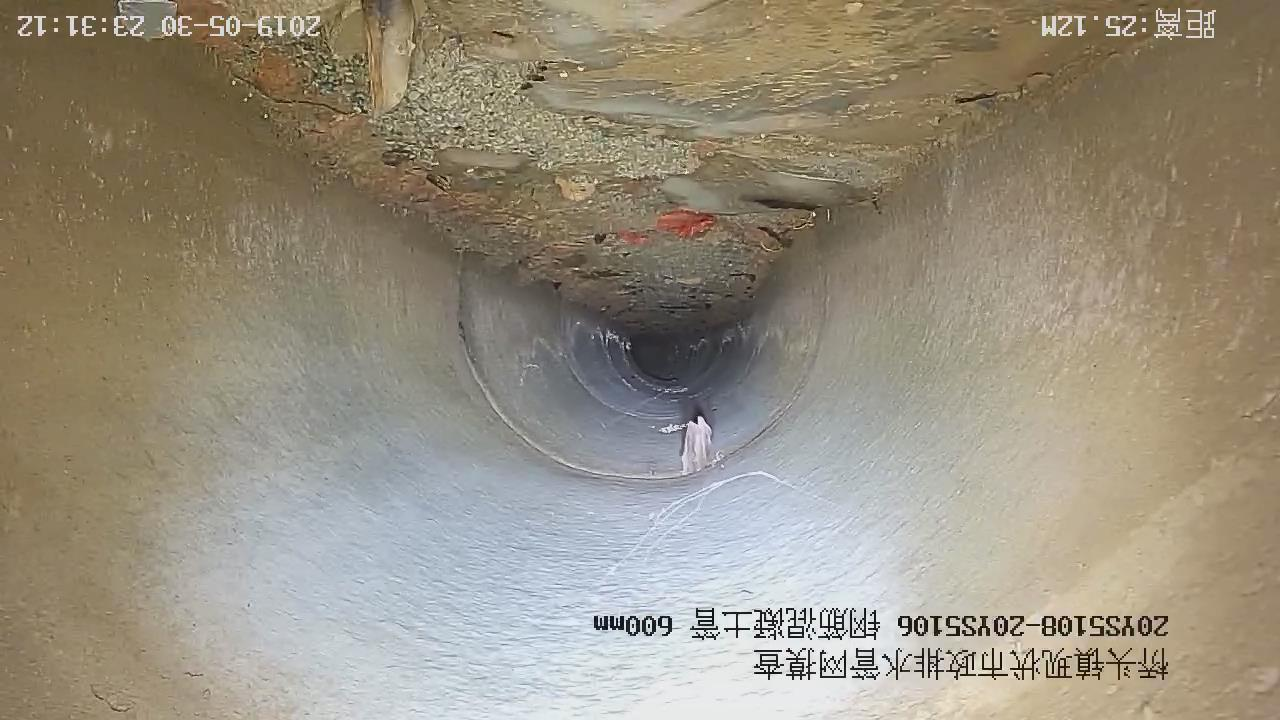CJ: (175, 1, 1216, 328)
CKTJ: (450, 243, 828, 485)
JKCL: (682, 417, 713, 474)
